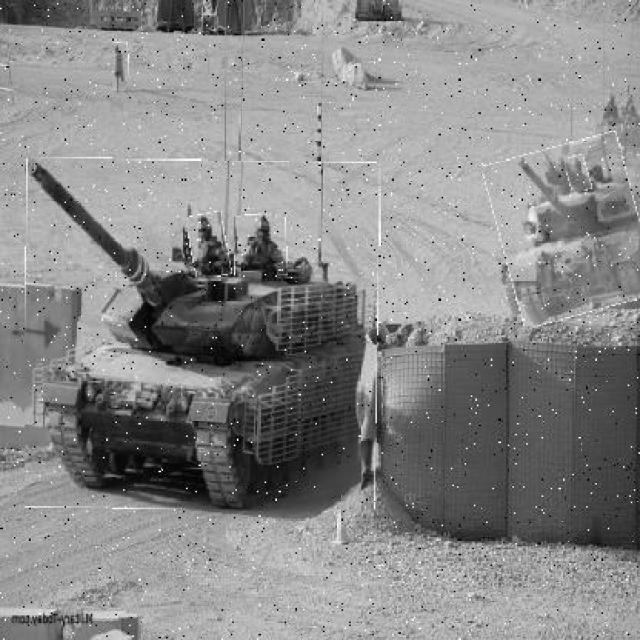Person: (233, 217, 289, 280), (189, 214, 230, 280), (567, 155, 590, 193), (113, 43, 129, 94)
Tank: (24, 159, 380, 512), (492, 140, 639, 324)
